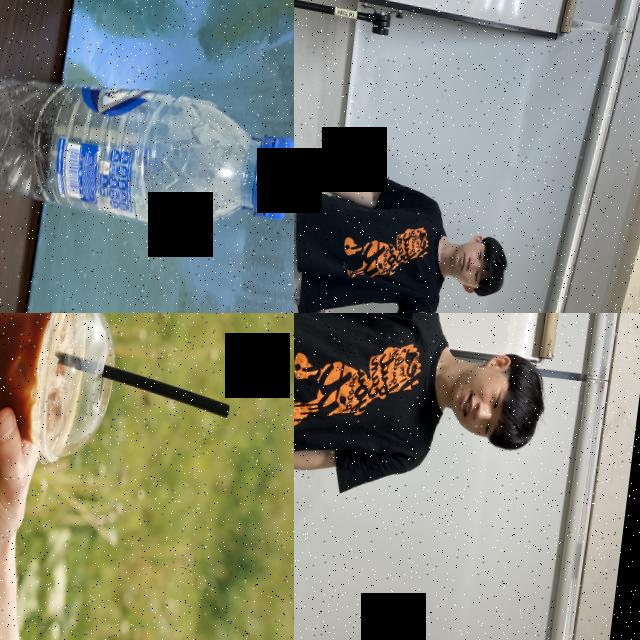bottle: (0, 62, 294, 238)
cup: (0, 313, 123, 465)
